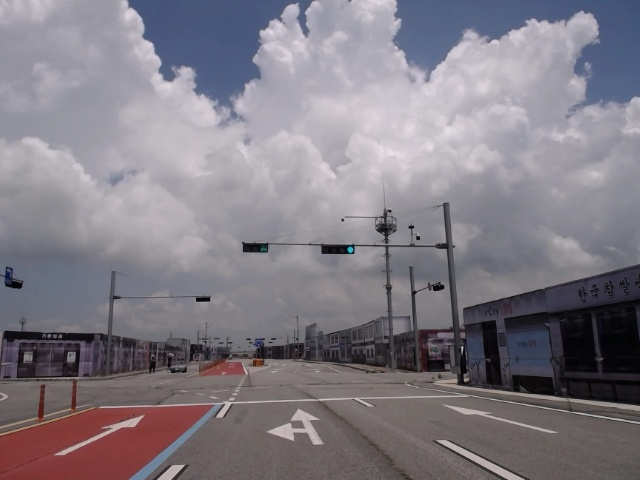straight_green_4: (319, 244, 356, 253)
